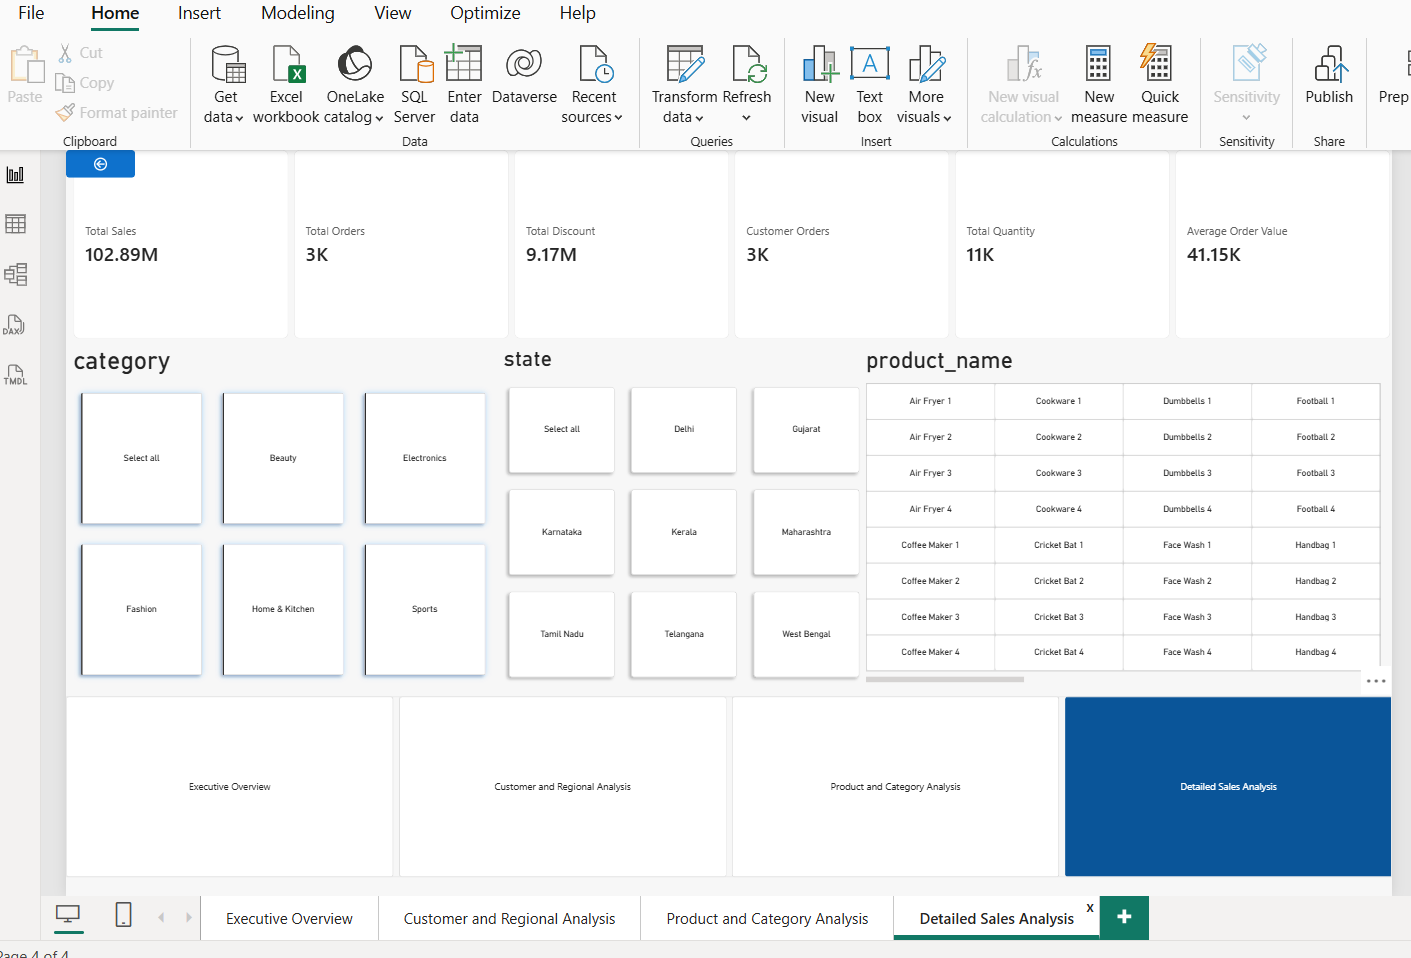

What the dashboard file says about the page in this screenshot:
{"tool":"powerbi","page":{"name":"Detailed Sales Analysis","canvas":[1920,1080],"ordinal":3},"visuals":[{"type":"cardVisual","fields":{"Data":["DAX Measure.Total Sales","DAX Measure.Total Orders","DAX Measure.Total Discount","DAX Measure.Customer Orders","DAX Measure.Total Quantity","DAX Measure.Average Order Value"]},"box":[10.3,0,1910.1,273.8],"z":0},{"type":"advancedSlicerVisual","fields":{"Values":["ecommerce_sal_analysis.category"]},"box":[10.3,284,607.2,487.8],"z":1000},{"type":"advancedSlicerVisual","fields":{"Values":["ecommerce_sal_analysis.state"]},"box":[634,284,524.9,487.8],"z":2000},{"type":"advancedSlicerVisual","fields":{"Values":["ecommerce_sal_analysis.product_name"]},"box":[1158.8,284,761.6,487.8],"z":3000},{"type":"actionButton","box":[0,0,100,40],"z":3001},{"type":"pageNavigator","box":[0,790.8,1920.1,262.4],"z":3002}]}

Visuals, with their boxes on the page's 1920x1080 design canvas (x1, y1, x2, y2). These are canvas units, not pixel positions in the 1411x958 screenshot, which may show the page scaled, cropped or inside an application window:
cardVisual - DAX Measure.Total Sales x DAX Measure.Total Orders: 10 0 1920 274
advancedSlicerVisual - ecommerce_sal_analysis.category: 10 284 618 772
advancedSlicerVisual - ecommerce_sal_analysis.state: 634 284 1159 772
advancedSlicerVisual - ecommerce_sal_analysis.product_name: 1159 284 1920 772
actionButton: 0 0 100 40
pageNavigator: 0 791 1920 1053
